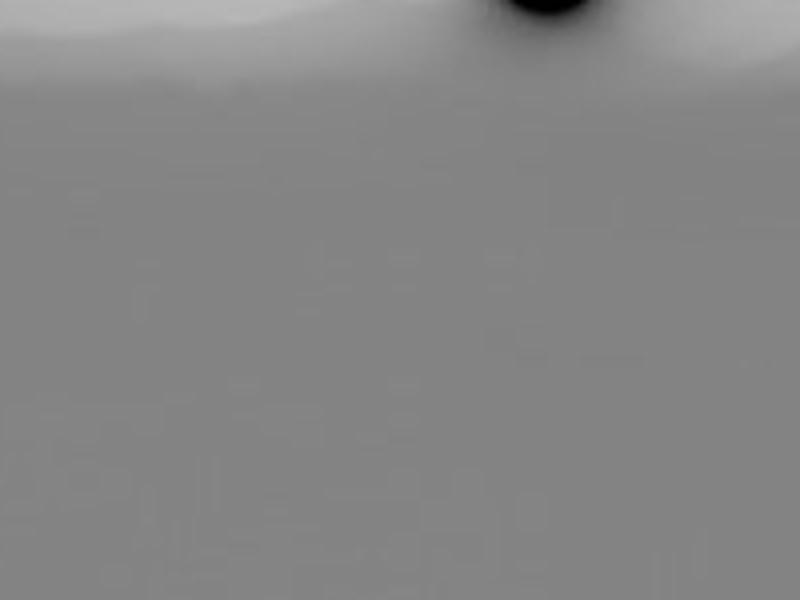defect: (506, 1, 592, 24)
